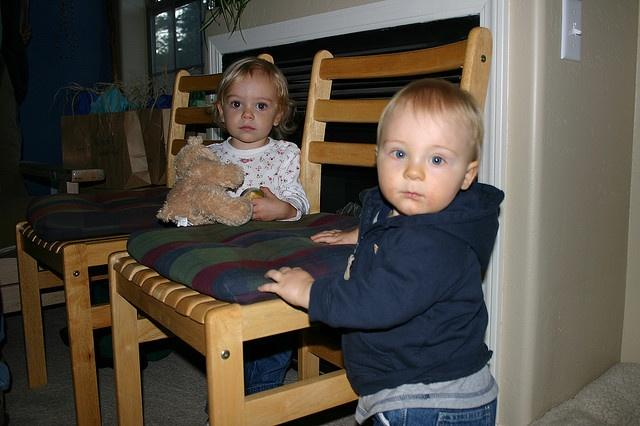Kursi: (111, 25, 378, 413), (15, 61, 217, 425)
